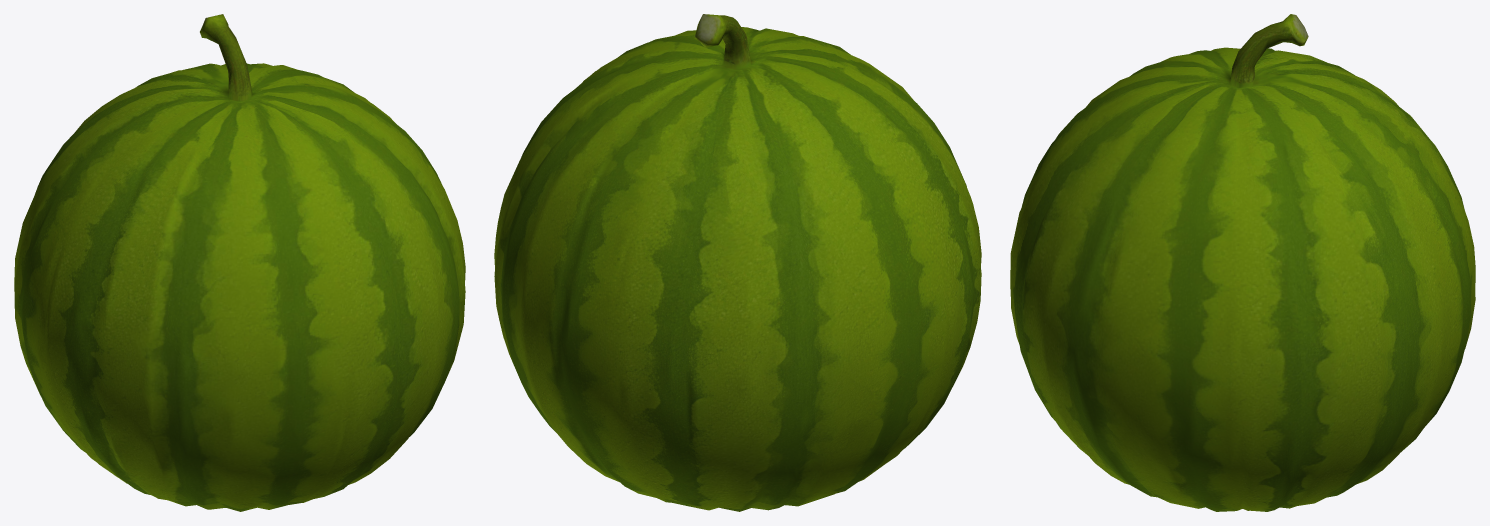
Rendered from ammo-melon.glb.
The picture shows the model from 3 angles, left to right: view 1: azimuth 30°, elevation 25°; view 2: azimuth 150°, elevation 25°; view 3: azimuth 270°, elevation 25°; orthographic projection. The views are drawn at different scales.
Parts seen in each view (by area): view 1: tripo_node_2e4bab52-3013-47ca-aa1d-fcba9057f6a2; view 2: tripo_node_2e4bab52-3013-47ca-aa1d-fcba9057f6a2; view 3: tripo_node_2e4bab52-3013-47ca-aa1d-fcba9057f6a2.
Part boxes in pixels (left/top/right/bottom): tripo_node_2e4bab52-3013-47ca-aa1d-fcba9057f6a2: left=14, top=14, right=465, bottom=511; tripo_node_2e4bab52-3013-47ca-aa1d-fcba9057f6a2: left=494, top=14, right=981, bottom=511; tripo_node_2e4bab52-3013-47ca-aa1d-fcba9057f6a2: left=1010, top=14, right=1475, bottom=511.
Size of the model in its own units: 0.908 by 0.9815 by 0.9009.
1 material, 1 textured.
